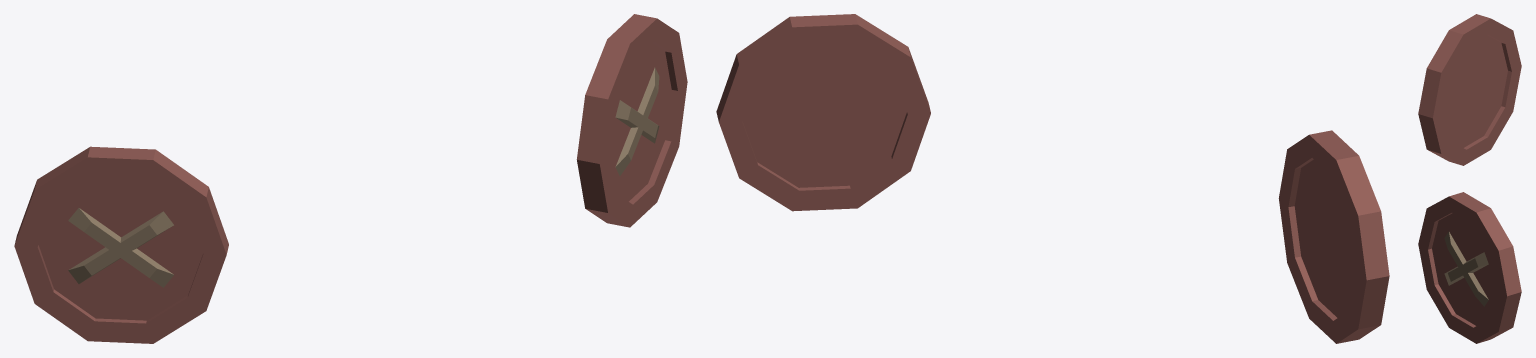
File: ButtonEyes.fbx
3 renders of one model, left to right at view 1: azimuth 30°, elevation 25°; view 2: azimuth 150°, elevation 25°; view 3: azimuth 270°, elevation 25°, orthographic. The views are drawn at different scales.
Parts seen in each view (by area): view 1: ButtonEyes_Mesh; view 2: ButtonEyes_Mesh; view 3: ButtonEyes_Mesh.
Part boxes in pixels (<box>): ButtonEyes_Mesh: <box>14,14,687,343</box>; ButtonEyes_Mesh: <box>716,14,1389,343</box>; ButtonEyes_Mesh: <box>1418,14,1521,343</box>.
Size of the model in its own units: 1.2 by 0.3136 by 0.224.
